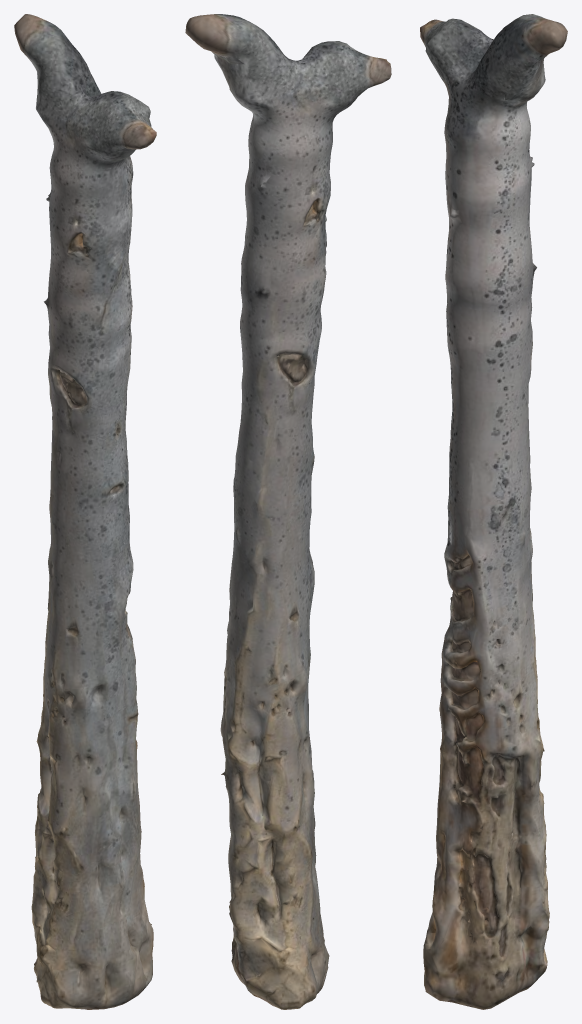
File: dead_quiver_trunk.glb
3 views of the same model, side by side, from view 1: azimuth 90°, elevation 25°; view 2: azimuth 150°, elevation 25°; view 3: azimuth 270°, elevation 25° (orthographic). The views are drawn at different scales.
Parts seen in each view (by area): view 1: dead_quiver_trunk_LOD0; view 2: dead_quiver_trunk_LOD0; view 3: dead_quiver_trunk_LOD0.
Part boxes in pixels (left/top/right/bottom): dead_quiver_trunk_LOD0: left=14, top=14, right=156, bottom=1009; dead_quiver_trunk_LOD0: left=185, top=14, right=391, bottom=1009; dead_quiver_trunk_LOD0: left=420, top=14, right=567, bottom=1009.
Size of the model in its own units: 0.3065 by 1.99 by 0.2681.
1 material, 1 textured.
